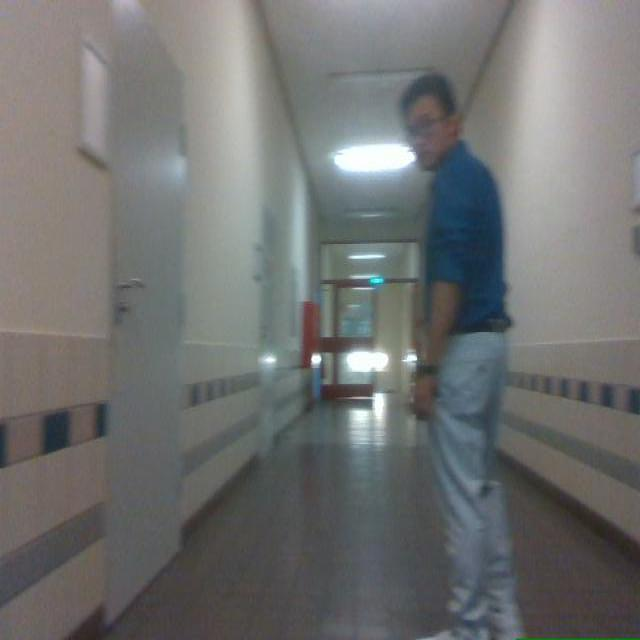humans: (400, 72, 525, 639)
